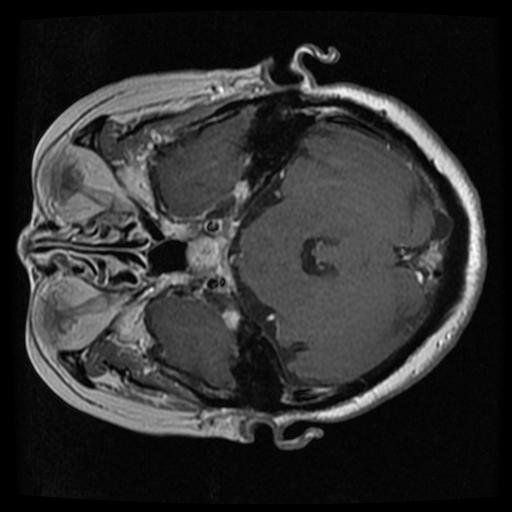pituitary tumour: (186, 234, 220, 275)
